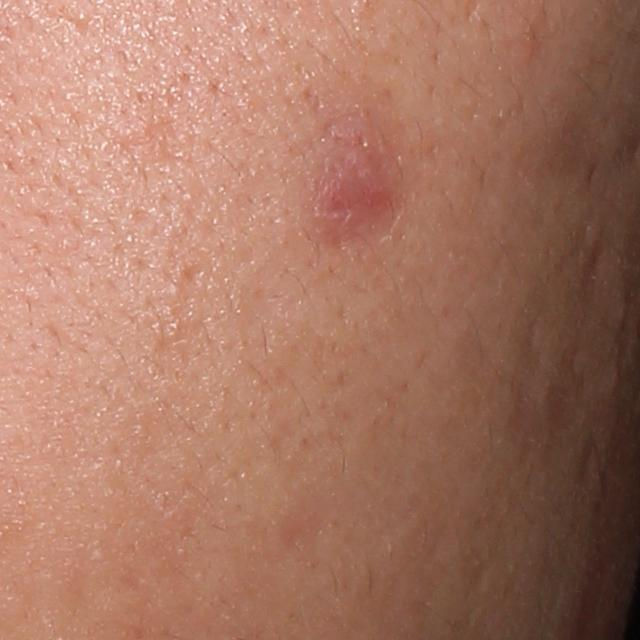atrophic_scar: (500, 307, 555, 471), (553, 335, 616, 449), (567, 221, 618, 320), (571, 430, 611, 508), (171, 260, 204, 330)
papule: (323, 151, 395, 237)
